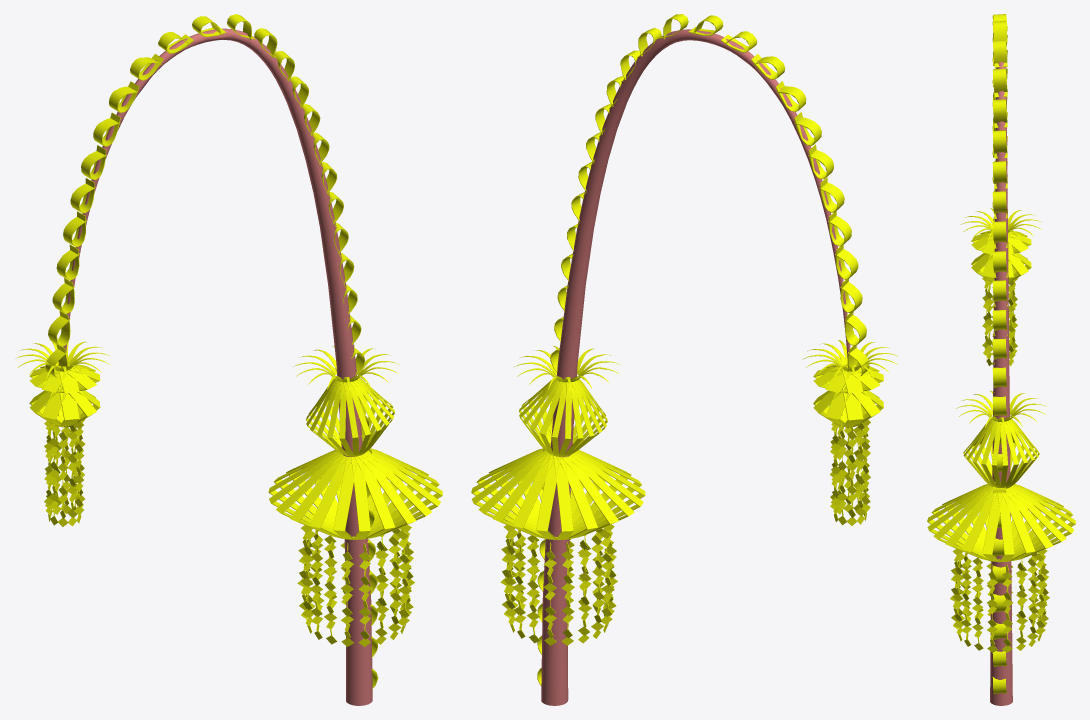
The model's file is penjor-medium.glb.
3 renders of one model, left to right at view 1: azimuth 30°, elevation 25°; view 2: azimuth 150°, elevation 25°; view 3: azimuth 270°, elevation 25°, orthographic. The views are drawn at different scales.
Parts seen in each view (by area): view 1: Sweep_Mat_0, Cloner_Mat.1_0, Cloner_3_Mat.1_0, Null_Mat.1_0, Cloner_5_Mat.1_0, Cloner_4_Mat.1_0, Cloner_2_Mat.1_0, Cloner_1_Mat.1_0, Cloner_6_Mat.1_0, Cloner_7_Mat.1_0; view 2: Sweep_Mat_0, Cloner_3_Mat.1_0, Cloner_Mat.1_0, Null_Mat.1_0, Cloner_5_Mat.1_0, Cloner_4_Mat.1_0, Cloner_2_Mat.1_0, Cloner_1_Mat.1_0, Cloner_6_Mat.1_0, Cloner_7_Mat.1_0; view 3: Cloner_3_Mat.1_0, Cloner_Mat.1_0, Null_Mat.1_0, Sweep_Mat_0, Cloner_5_Mat.1_0, Cloner_4_Mat.1_0, Cloner_2_Mat.1_0, Cloner_1_Mat.1_0, Cloner_6_Mat.1_0, Cloner_7_Mat.1_0.
Boxes of the visible parts, left/top/right/bottom form: Sweep_Mat_0: left=63, top=28, right=372, bottom=705; Cloner_Mat.1_0: left=45, top=14, right=378, bottom=688; Cloner_3_Mat.1_0: left=268, top=448, right=442, bottom=539; Null_Mat.1_0: left=297, top=525, right=414, bottom=646; Cloner_5_Mat.1_0: left=306, top=376, right=394, bottom=456; Cloner_4_Mat.1_0: left=44, top=414, right=85, bottom=526; Cloner_2_Mat.1_0: left=29, top=383, right=100, bottom=427; Cloner_1_Mat.1_0: left=29, top=364, right=100, bottom=393; Cloner_6_Mat.1_0: left=293, top=345, right=399, bottom=390; Cloner_7_Mat.1_0: left=15, top=340, right=109, bottom=380; Sweep_Mat_0: left=541, top=29, right=850, bottom=705; Cloner_3_Mat.1_0: left=471, top=448, right=645, bottom=539; Cloner_Mat.1_0: left=537, top=14, right=869, bottom=685; Null_Mat.1_0: left=500, top=510, right=617, bottom=645; Cloner_5_Mat.1_0: left=519, top=377, right=607, bottom=456; Cloner_4_Mat.1_0: left=830, top=413, right=870, bottom=525; Cloner_2_Mat.1_0: left=813, top=383, right=883, bottom=427; Cloner_1_Mat.1_0: left=813, top=364, right=883, bottom=393; Cloner_6_Mat.1_0: left=514, top=346, right=620, bottom=391; Cloner_7_Mat.1_0: left=802, top=340, right=898, bottom=380; Cloner_3_Mat.1_0: left=927, top=484, right=1075, bottom=562; Cloner_Mat.1_0: left=992, top=14, right=1007, bottom=694; Null_Mat.1_0: left=950, top=549, right=1049, bottom=652; Sweep_Mat_0: left=990, top=62, right=1012, bottom=705; Cloner_5_Mat.1_0: left=963, top=417, right=1039, bottom=488; Cloner_4_Mat.1_0: left=982, top=275, right=1017, bottom=366; Cloner_2_Mat.1_0: left=971, top=253, right=1031, bottom=282; Cloner_1_Mat.1_0: left=971, top=230, right=1031, bottom=254; Cloner_6_Mat.1_0: left=956, top=390, right=1046, bottom=428; Cloner_7_Mat.1_0: left=960, top=208, right=1041, bottom=242.
Bounding box in the file's own units: 0.596 × 1 × 0.2196.
